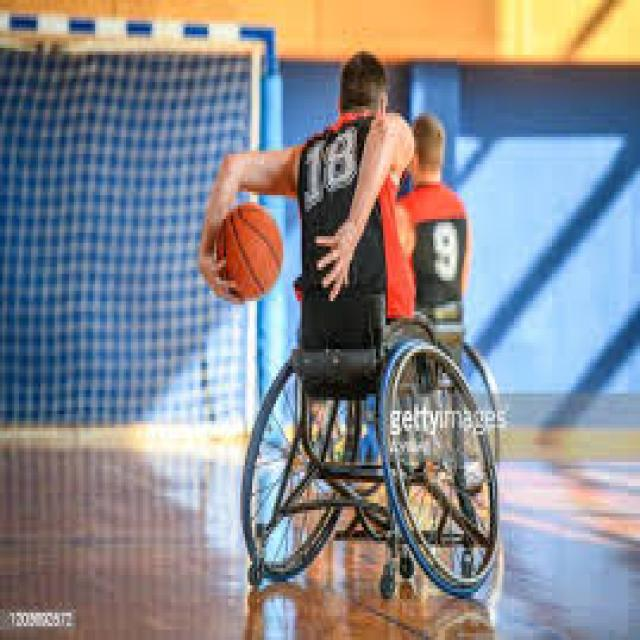wheelchairs: (223, 322, 488, 602)
